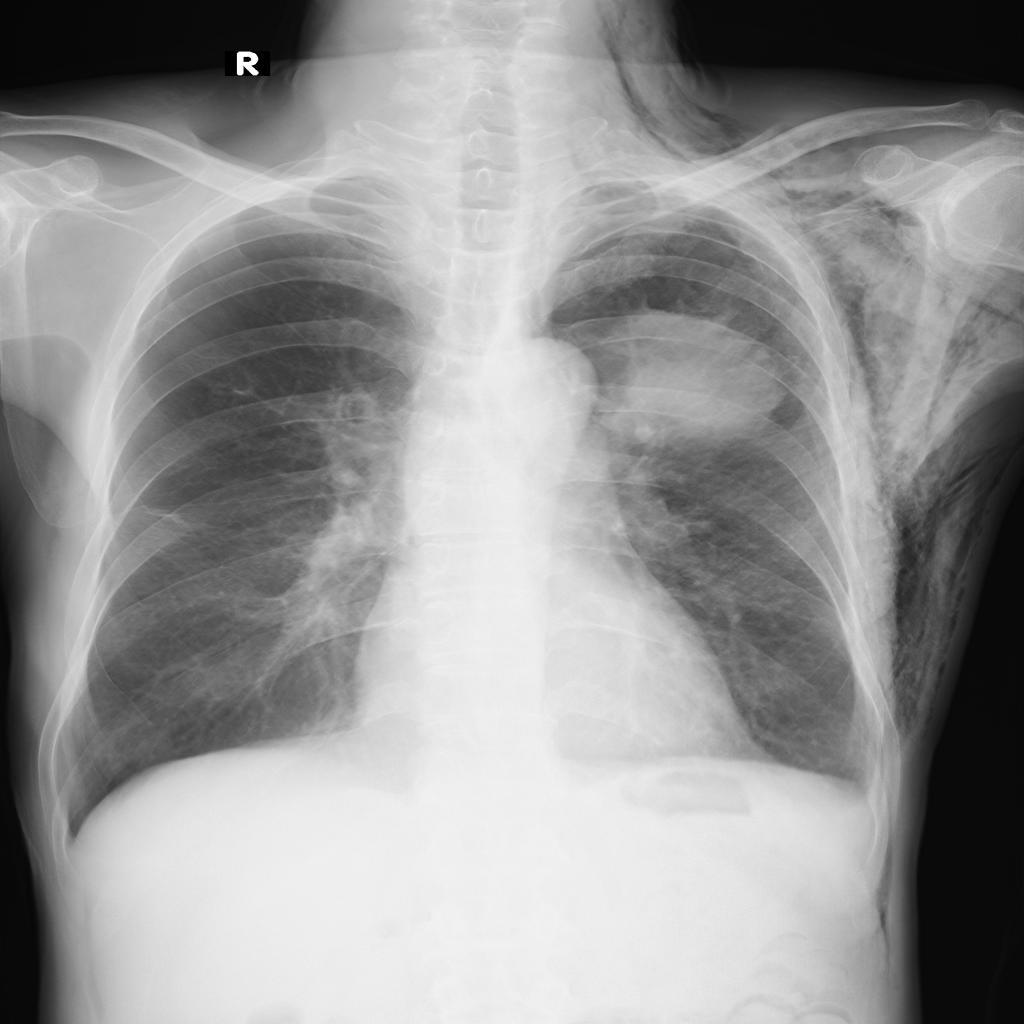Nodule: (593, 311, 787, 438)
